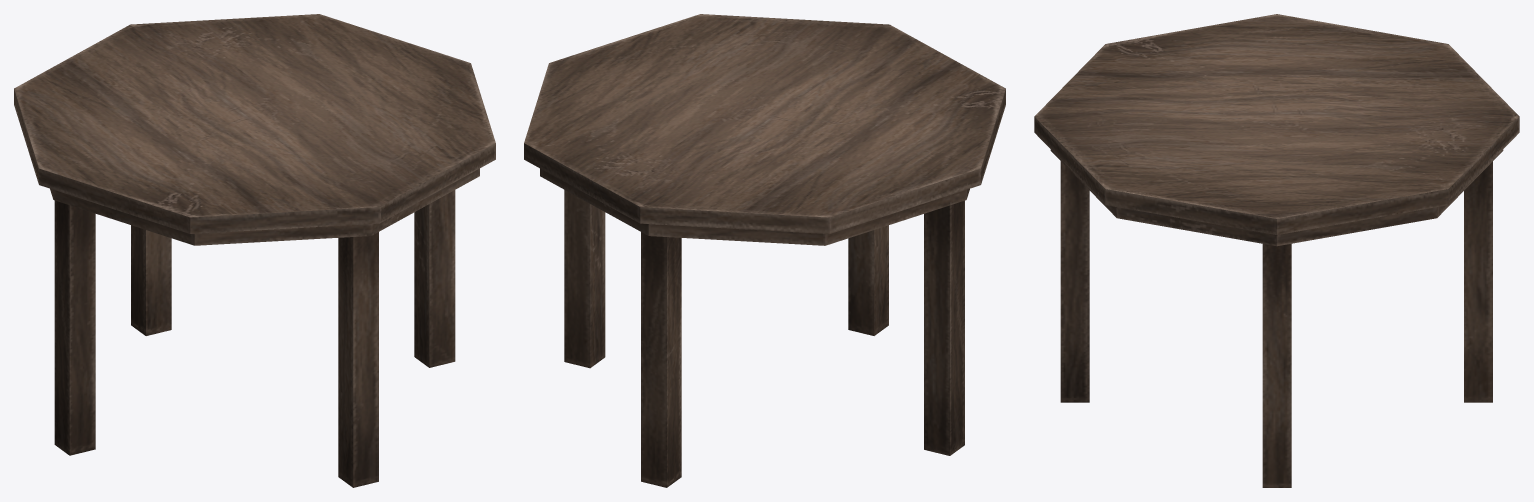
Rendered from Table_1.fbx.
3 views of the same model, side by side, from view 1: azimuth 30°, elevation 25°; view 2: azimuth 150°, elevation 25°; view 3: azimuth 270°, elevation 25° (orthographic). The views are drawn at different scales.
Visible parts, largest first — view 1: Table_1; view 2: Table_1; view 3: Table_1.
Boxes of the visible parts, x1,y1,x2,y2 form: Table_1: (14,14,495,487); Table_1: (524,14,1005,487); Table_1: (1034,14,1519,487).
Bounding box in the file's own units: 124 × 79.1 × 124.
